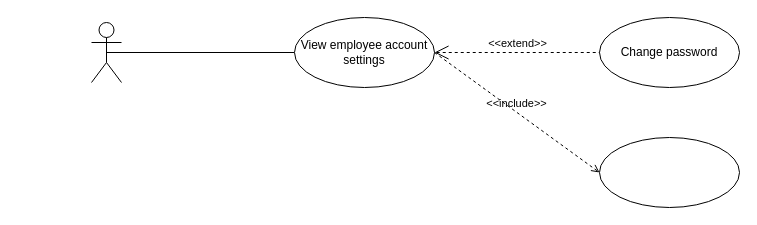
Image size: 757x225. Some labels were removed from this diagram. The shapes that lost their labels are listed below. From the top down, each one's centre as x and y in pixels, then its label:
(x=106, y=52): Enterprise employee (non-owner)
(x=669, y=172): Log into an employee account
